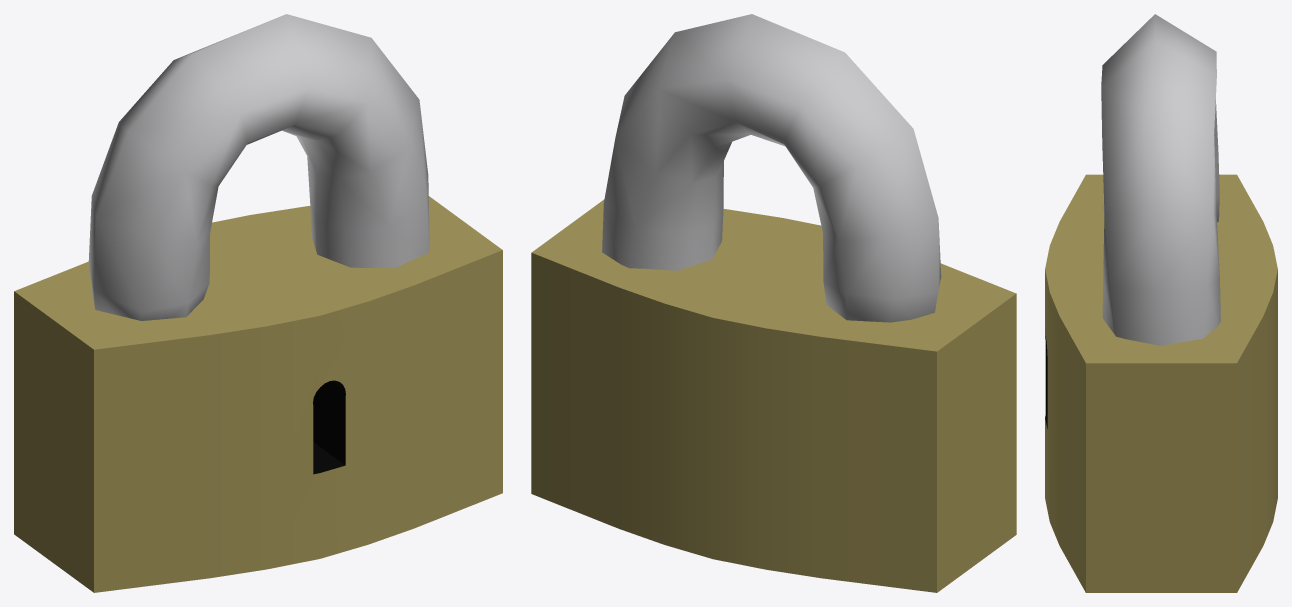
File: candado.fbx
3 views of the same model, side by side, from view 1: azimuth 30°, elevation 25°; view 2: azimuth 150°, elevation 25°; view 3: azimuth 270°, elevation 25° (orthographic). The views are drawn at different scales.
Visible parts, largest first — view 1: candado, hierro_candado; view 2: candado, hierro_candado; view 3: candado, hierro_candado.
Part boxes in pixels (<box>): candado: <box>14,196,502,592</box>; hierro_candado: <box>88,14,429,320</box>; candado: <box>531,199,1016,592</box>; hierro_candado: <box>602,14,941,322</box>; candado: <box>1045,174,1277,592</box>; hierro_candado: <box>1101,14,1220,345</box>.
Bounding box in the file's own units: 1.76 × 2.04 × 0.918.
